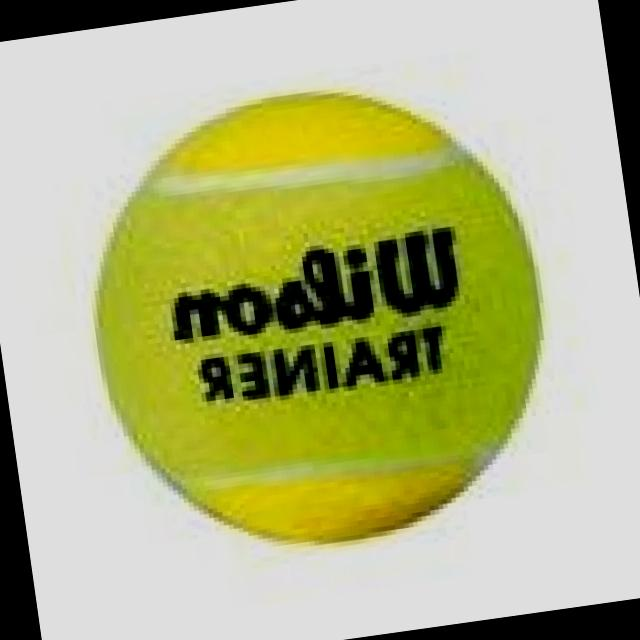Tennis Ball: (90, 89, 545, 548)
